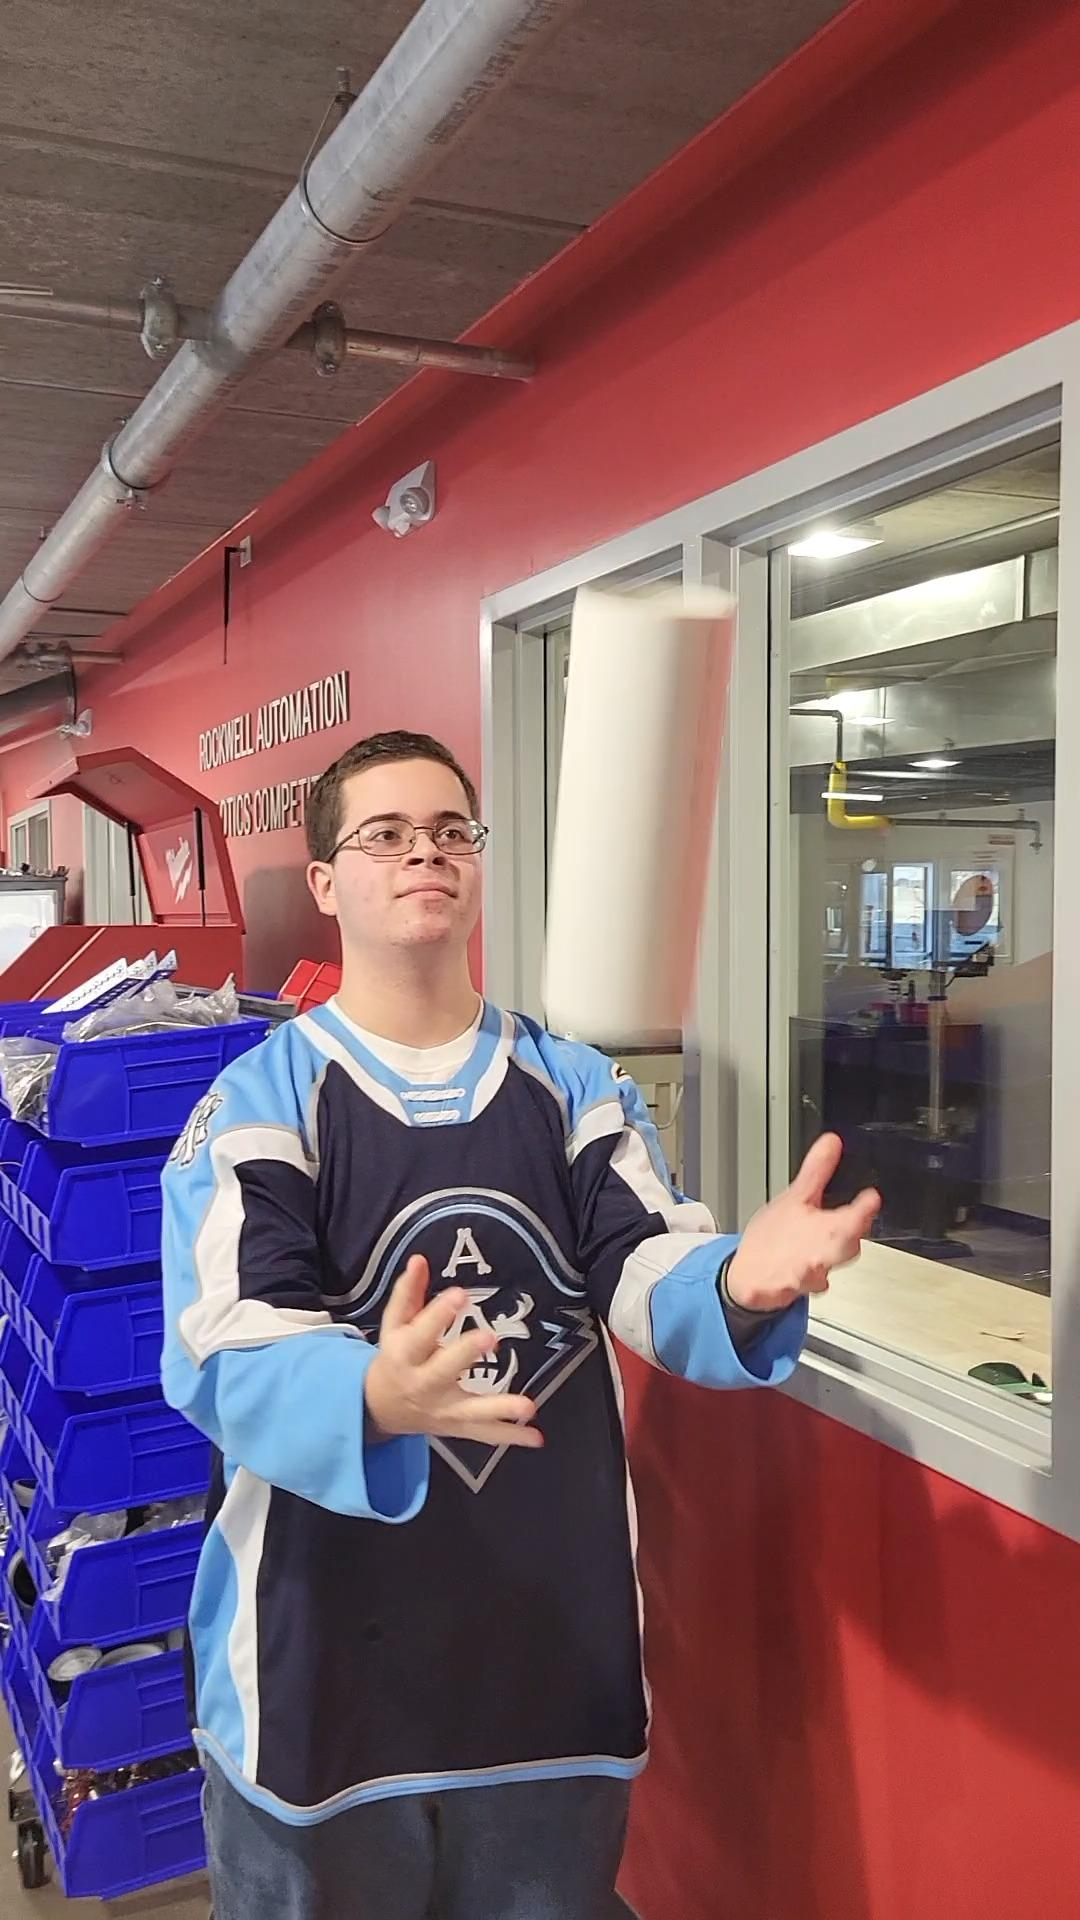coral: (537, 560, 760, 1054)
